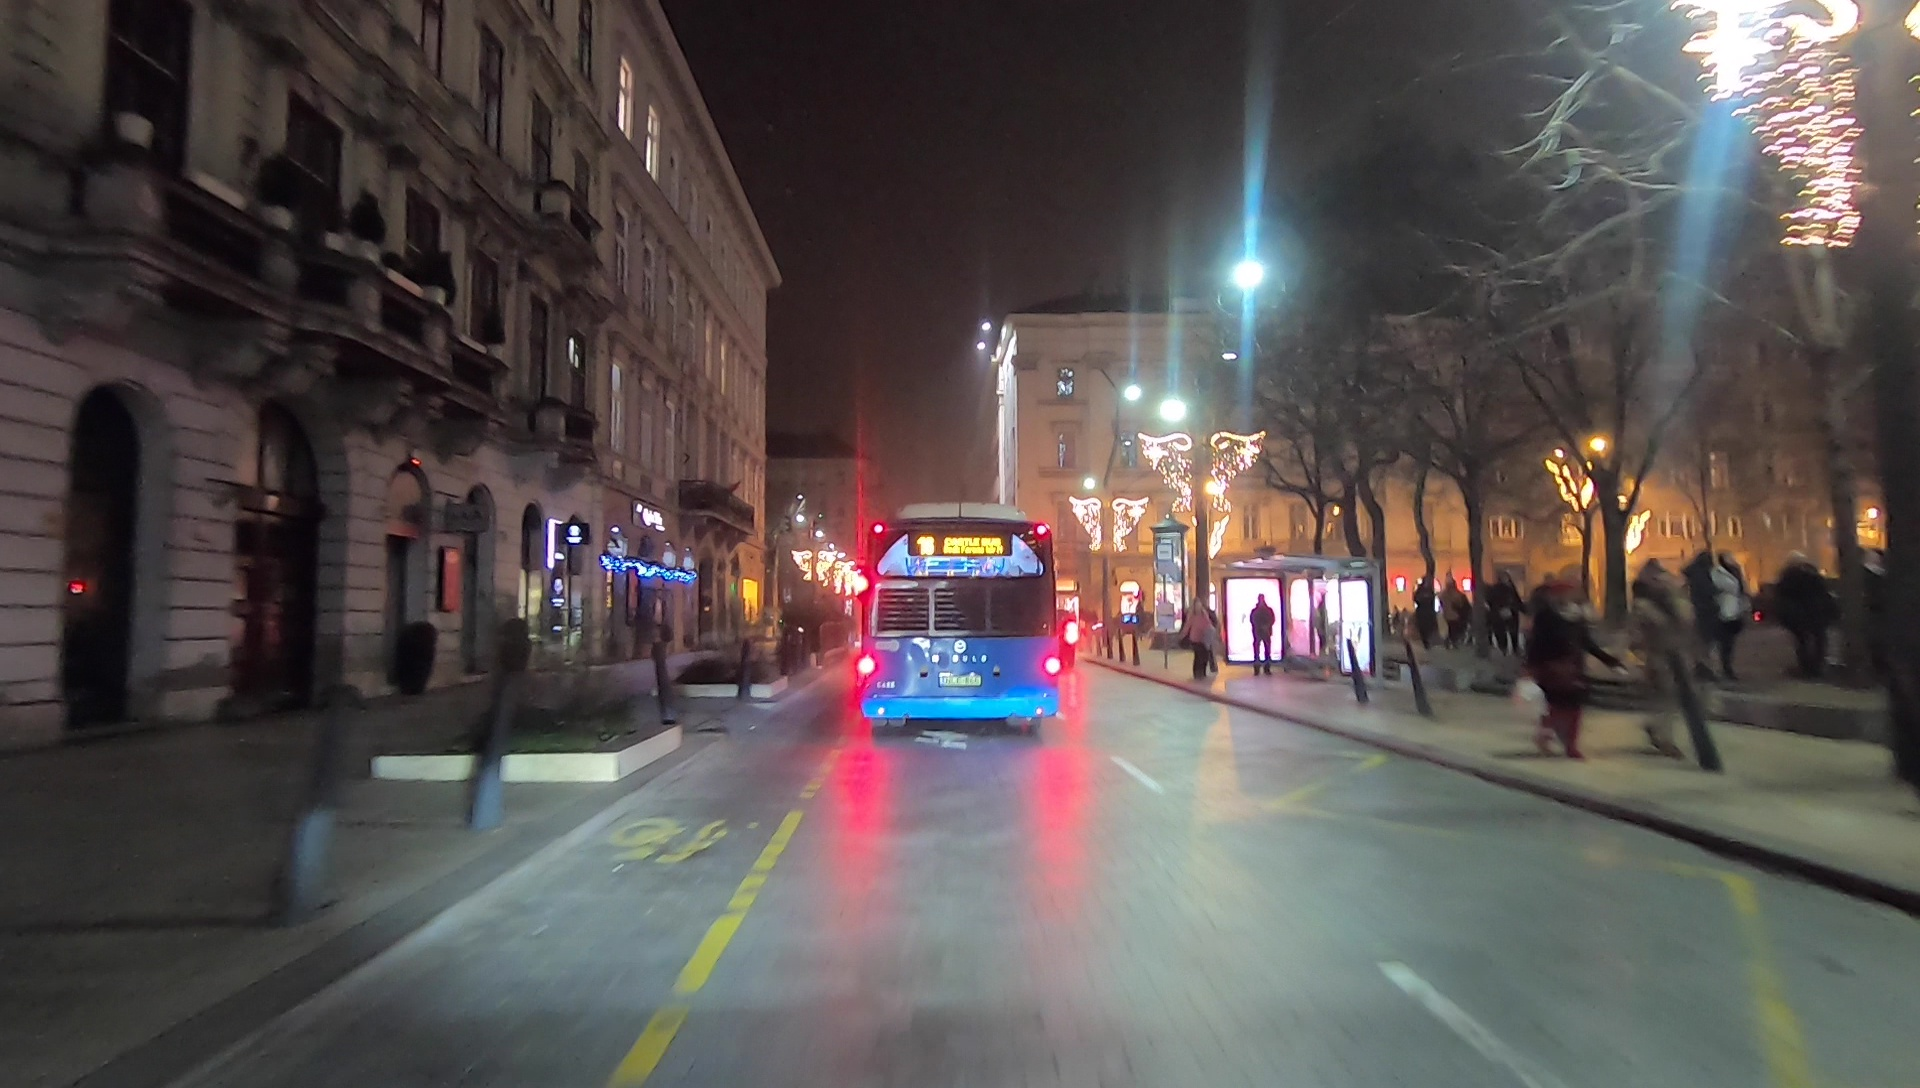person: (1530, 585, 1593, 759), (1635, 566, 1693, 755), (1692, 549, 1750, 680), (1775, 549, 1832, 680), (1486, 565, 1521, 658), (1185, 598, 1216, 679), (1438, 572, 1468, 648), (1249, 595, 1273, 677), (1414, 572, 1437, 646)
